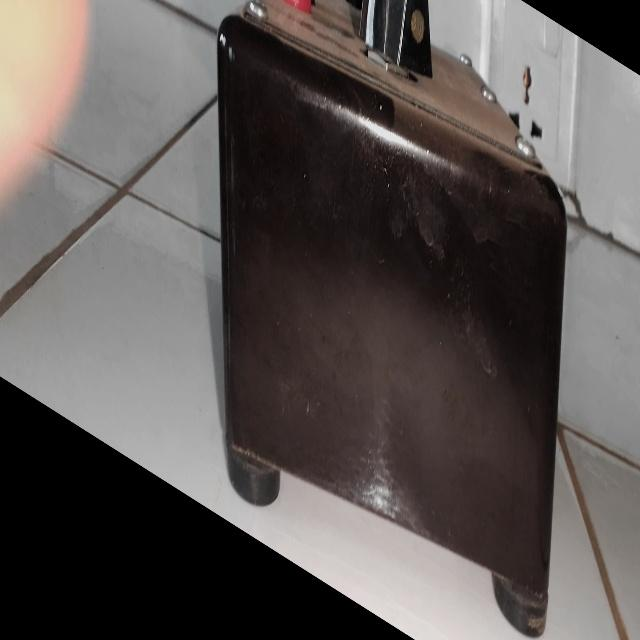Decade Capacitance Box: (196, 0, 585, 640)
